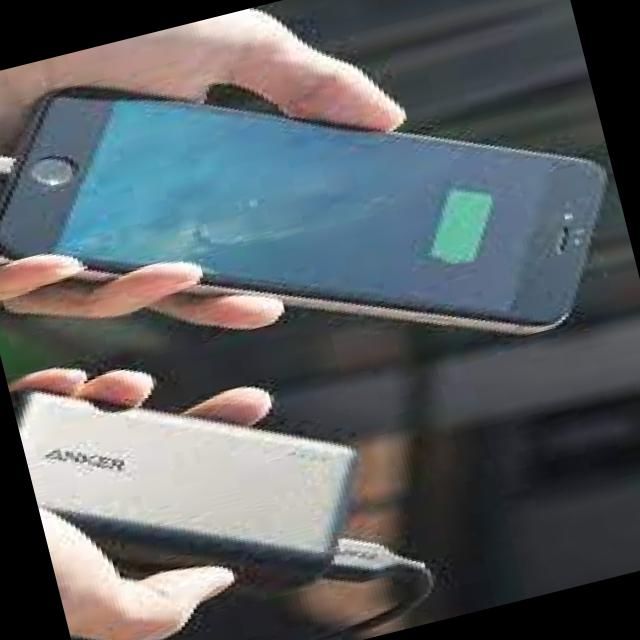portable-charger: (9, 315, 392, 640)
